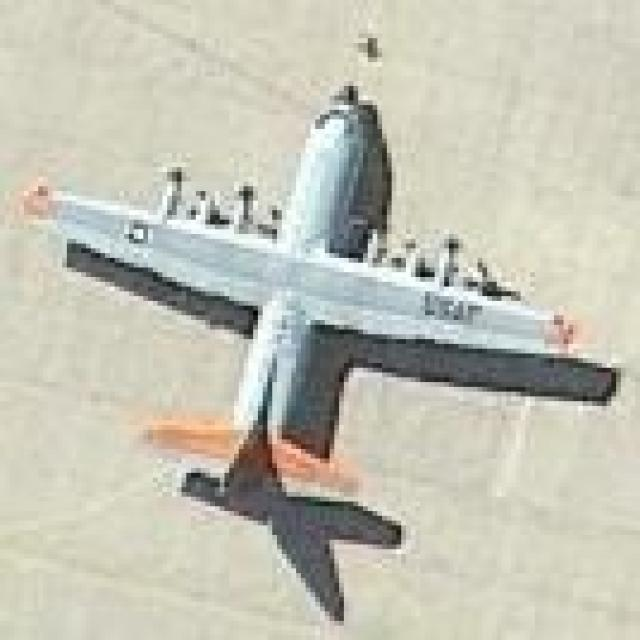C-130_TopDown: (21, 82, 622, 626)
